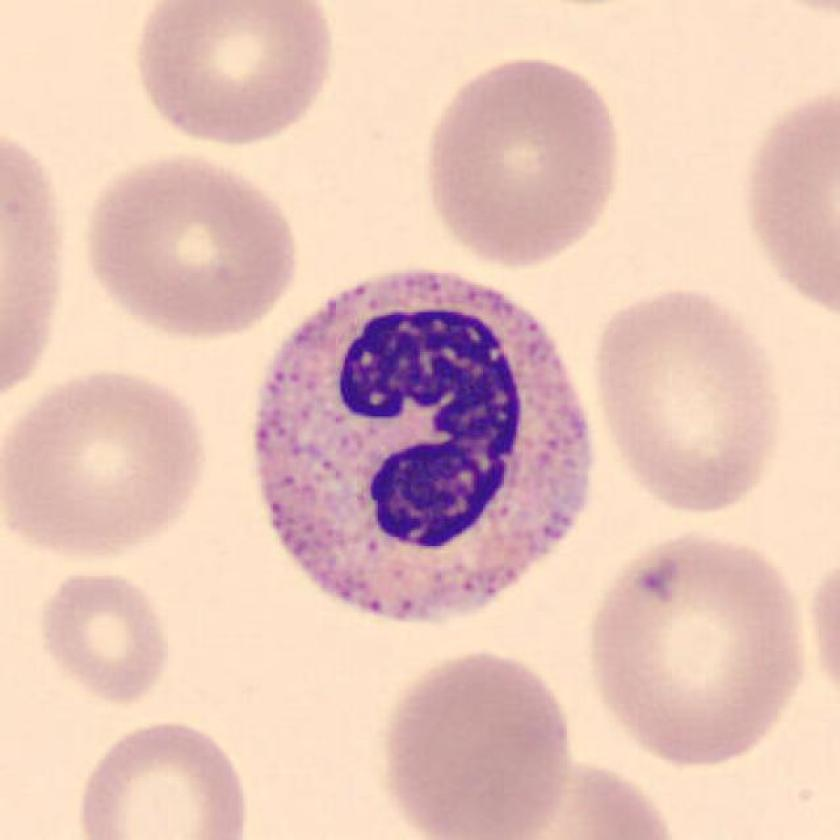neutrophil: (255, 272, 591, 620)
